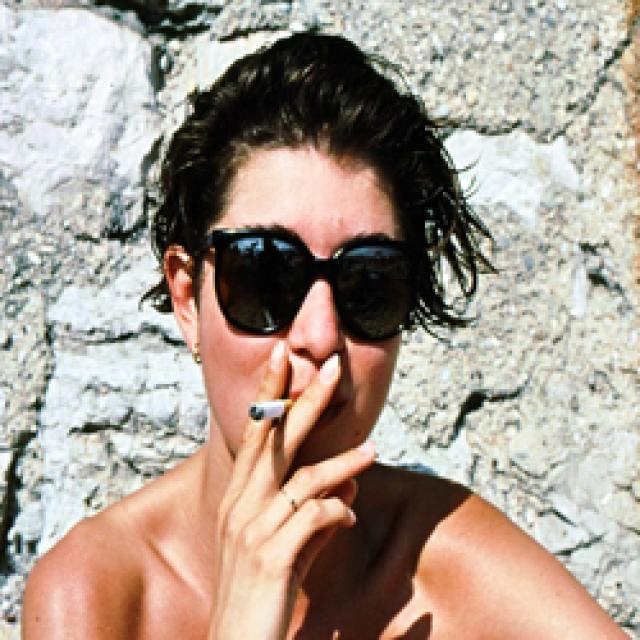Smooking: (232, 387, 303, 430)
